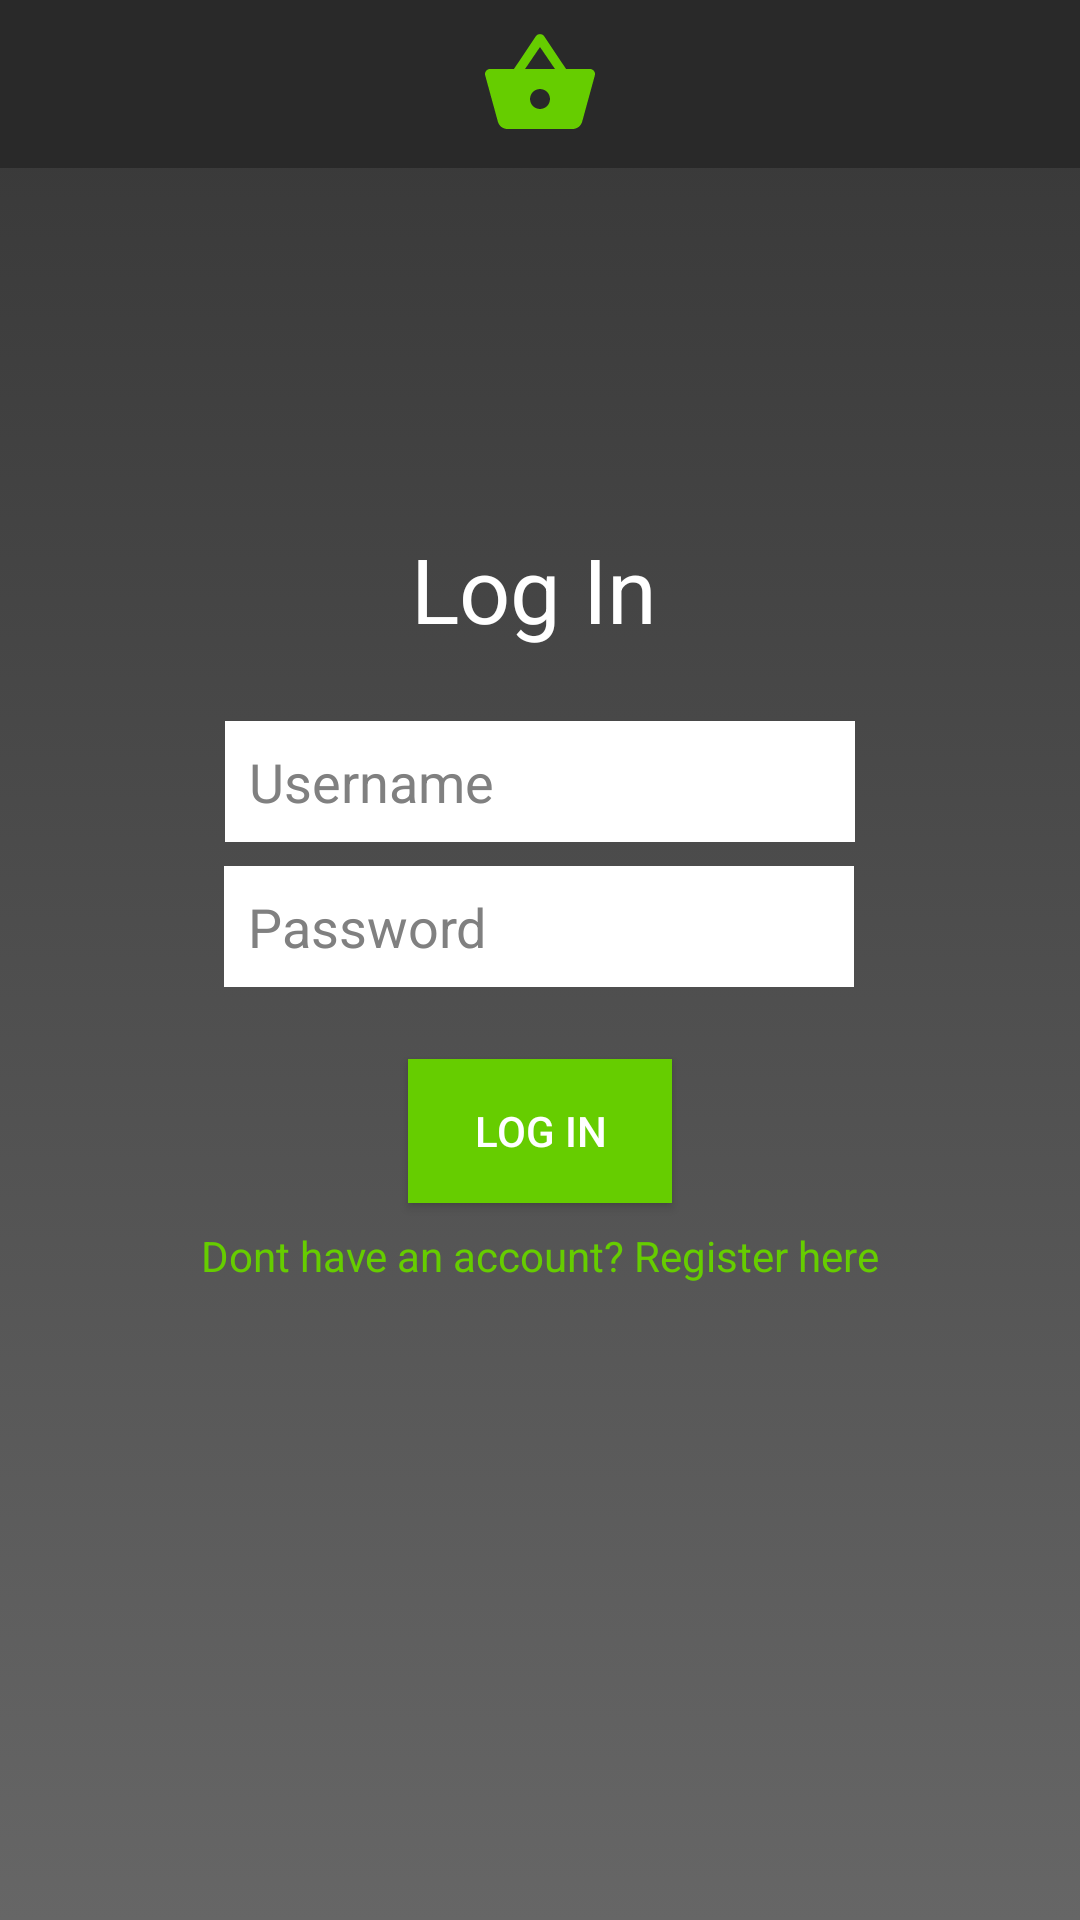

Where icons sit on this 1080w x 1920h app screen, as rect(x1, y1, x2, y2):
shopping basket: rect(485, 34, 595, 129)
